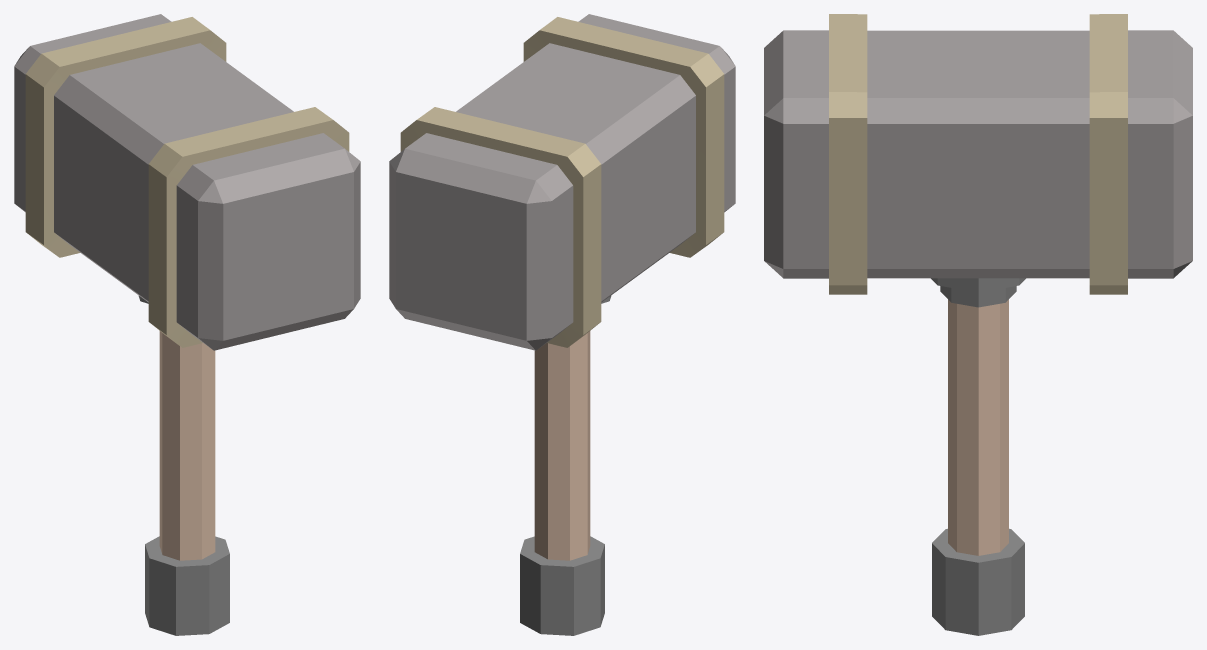
Rendered from hammer.fbx.
The picture shows the model from 3 angles, left to right: view 1: azimuth 30°, elevation 25°; view 2: azimuth 150°, elevation 25°; view 3: azimuth 270°, elevation 25°; orthographic projection. The views are drawn at different scales.
Parts seen in each view (by area): view 1: pCylinder2; view 2: pCylinder2; view 3: pCylinder2.
Boxes of the visible parts, <box> form: pCylinder2: <box>14,14,360,635</box>; pCylinder2: <box>389,14,735,635</box>; pCylinder2: <box>764,14,1192,635</box>.
Bounding box in the file's own units: 2.18 × 6.05 × 4.18.
